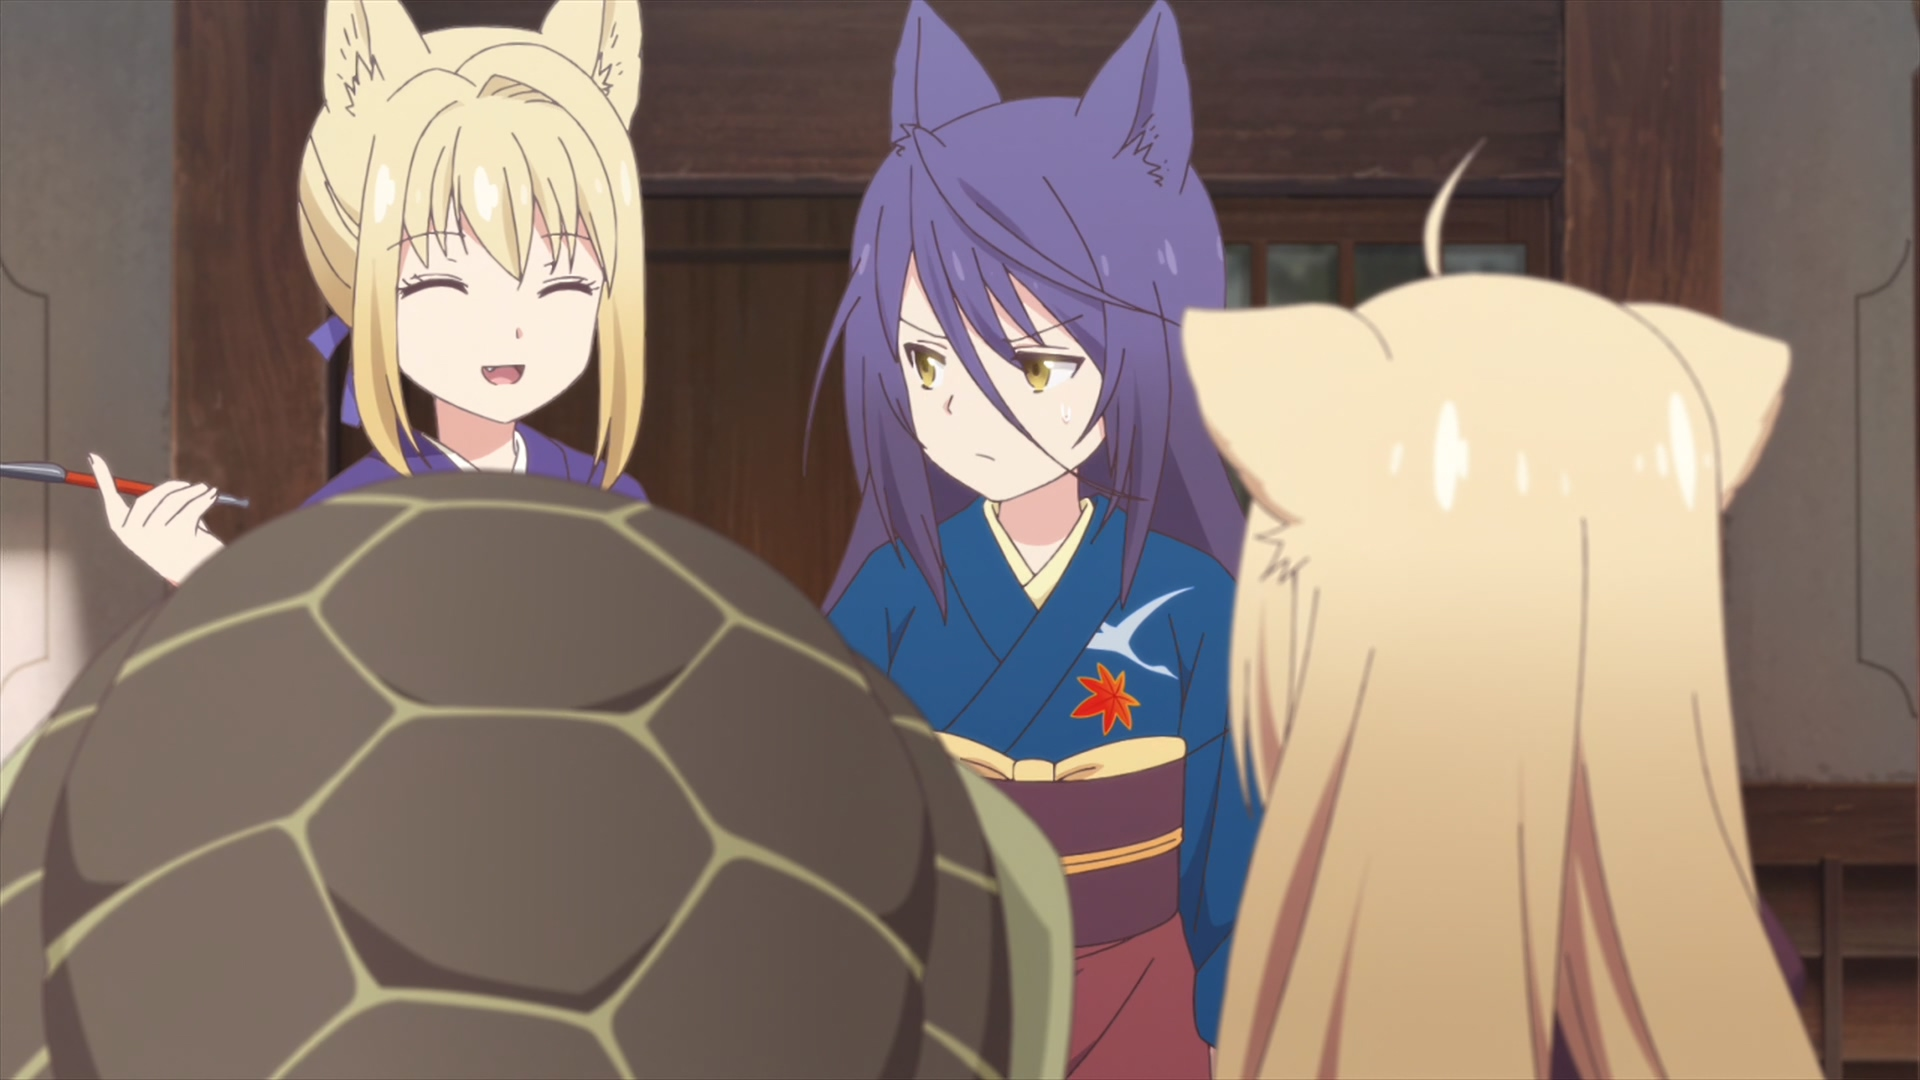其他: (1, 471, 1073, 1080)
柚: (1182, 137, 1826, 1080)
桐: (295, 1, 645, 505)
皋: (802, 1, 1265, 1080)
